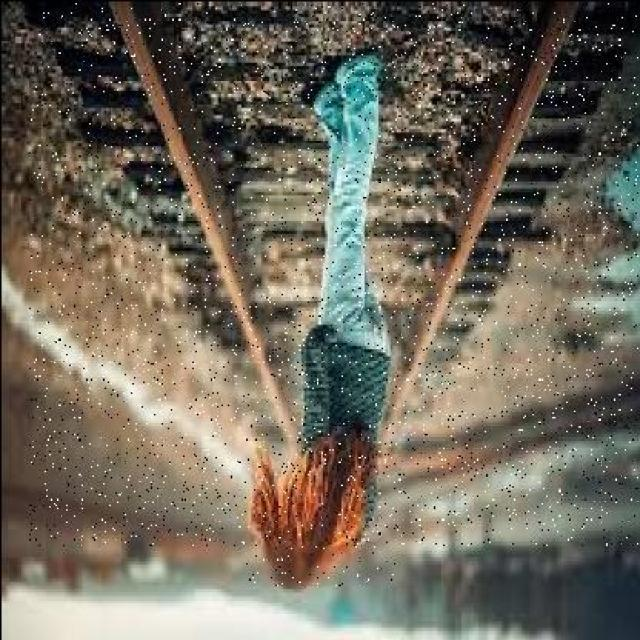danger: (243, 46, 394, 585)
rail: (28, 2, 637, 544)
